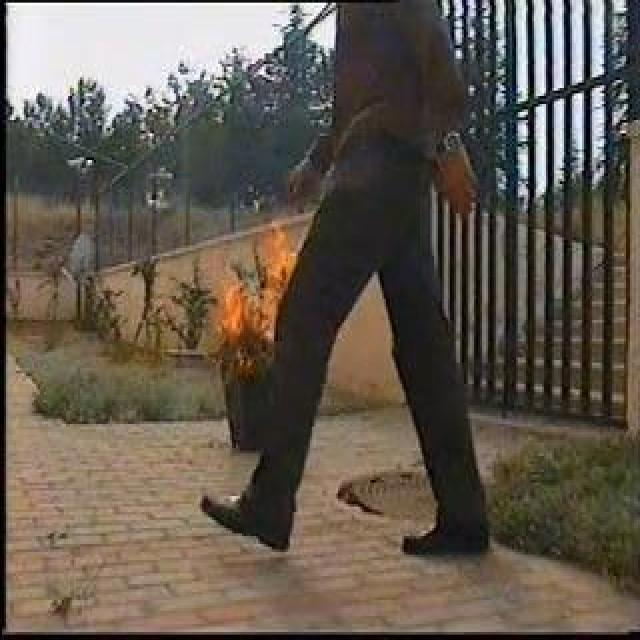Fire: (224, 235, 288, 344)
